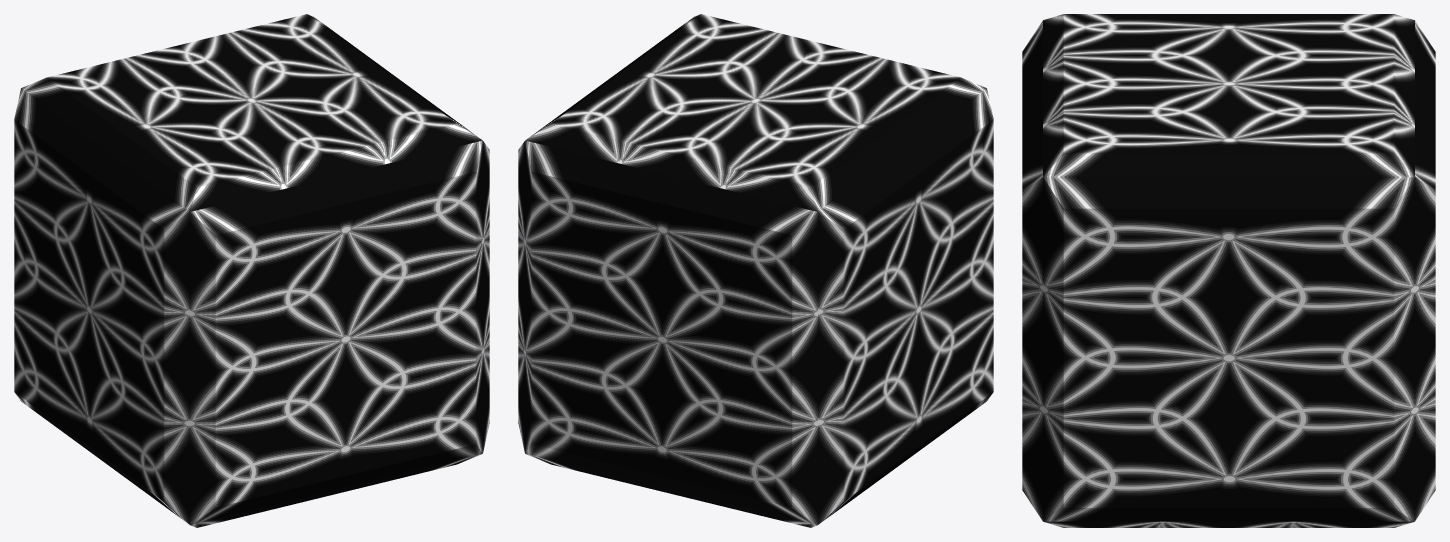
The model's file is PushableRock.FBX.
3 renders of one model, left to right at view 1: azimuth 30°, elevation 25°; view 2: azimuth 150°, elevation 25°; view 3: azimuth 270°, elevation 25°, orthographic. The views are drawn at different scales.
Visible parts, largest first — view 1: PushableRock; view 2: PushableRock; view 3: PushableRock.
Boxes of the visible parts, x1,y1,x2,y2 form: PushableRock: [14, 14, 489, 527]; PushableRock: [518, 14, 993, 527]; PushableRock: [1022, 14, 1435, 527].
Size of the model in its own units: 78.74 by 78.74 by 78.74.
